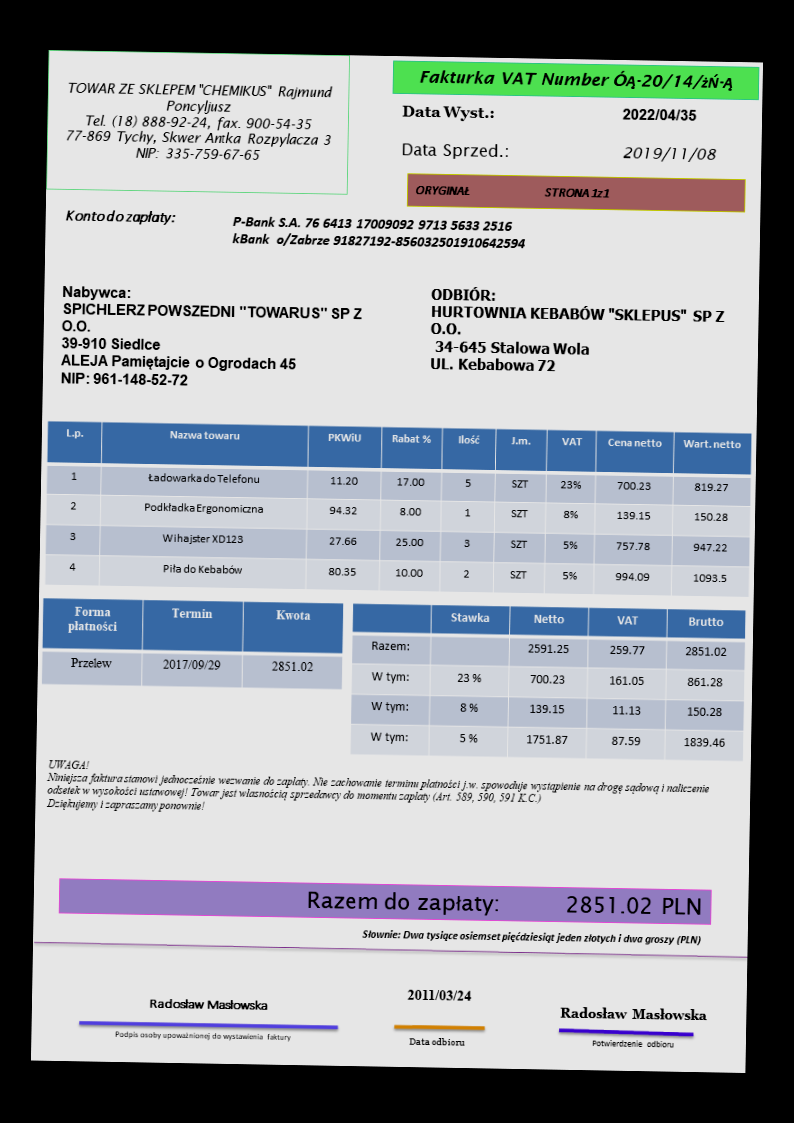Table: (43, 417, 752, 597), (347, 600, 746, 762), (41, 597, 343, 690)
TextBox: (46, 754, 715, 824), (57, 281, 367, 393), (425, 283, 729, 379), (60, 75, 337, 167), (304, 886, 704, 922), (228, 212, 531, 254), (414, 65, 737, 95), (359, 924, 705, 950), (411, 181, 614, 204), (556, 1003, 708, 1026), (112, 1025, 295, 1044), (61, 203, 178, 229), (398, 139, 512, 163), (145, 994, 271, 1013), (398, 101, 499, 124), (619, 142, 720, 165), (619, 103, 698, 124), (402, 985, 475, 1005), (590, 1036, 678, 1052), (406, 1033, 468, 1050)
